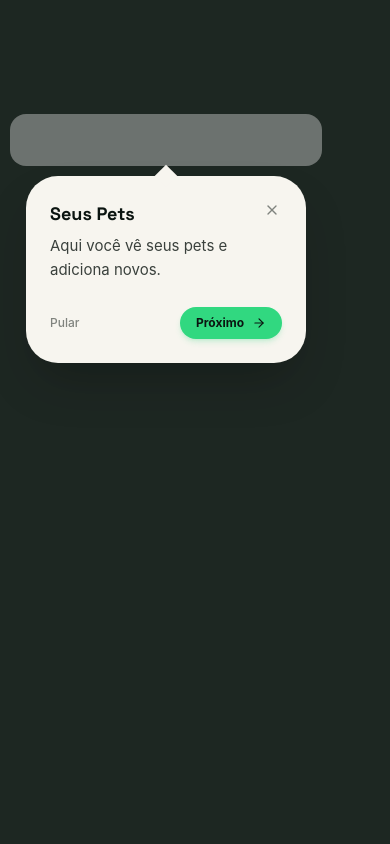
Test: GuidedTour — comportamento no iPhone (390x844) › percorre as quatro orientações com o tooltip dentro da visual viewport
Click the button "Próximo": (231, 323) [180, 307, 282, 339]
Wait 64 ms
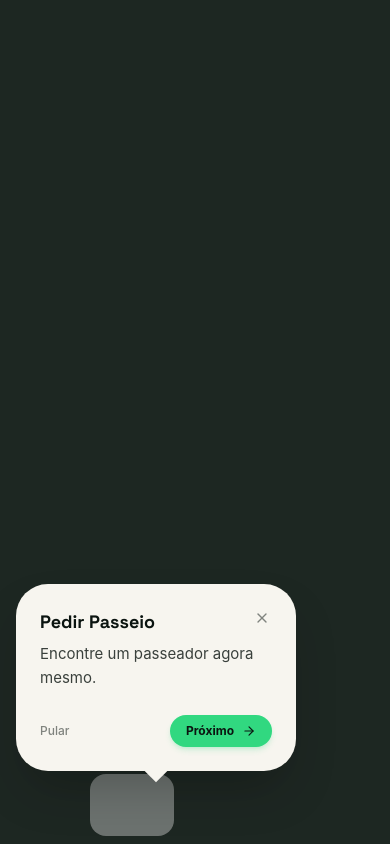
Click the button "Próximo": (221, 731) [170, 715, 272, 747]
Wait 64 ms
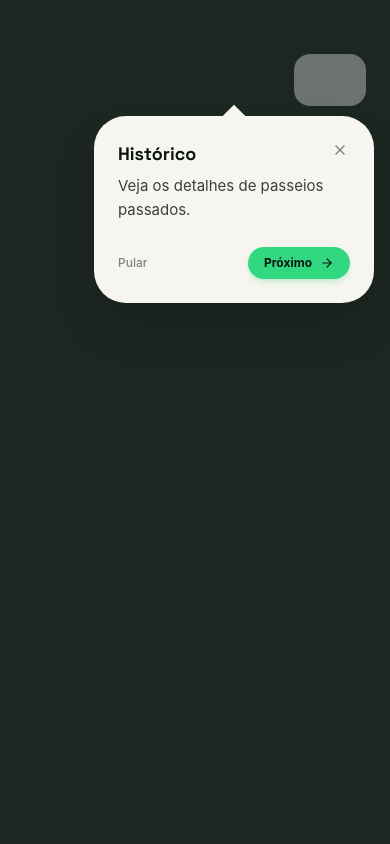
Click the button "Próximo": (299, 263) [248, 247, 350, 279]
Wait 64 ms
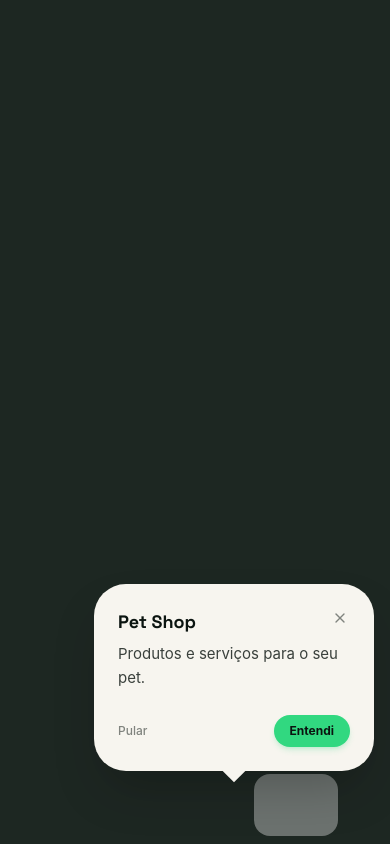
Now the button "Entendi" is shown, box [274, 715, 350, 747]
